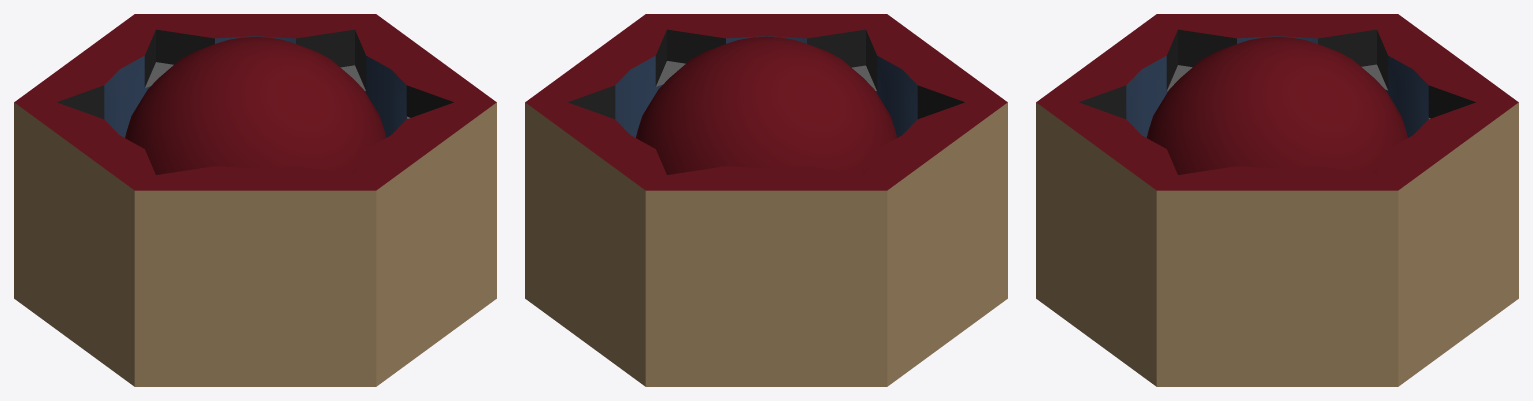
The model's file is starturret.dae.
3 renders of one model, left to right at view 1: azimuth 30°, elevation 25°; view 2: azimuth 150°, elevation 25°; view 3: azimuth 270°, elevation 25°, orthographic.
Parts seen in each view (by area): view 1: SketchUp (×8); view 2: SketchUp (×8); view 3: SketchUp (×8).
Part boxes in pixels (bbox=[...]): SketchUp (×8): bbox=[14, 14, 496, 386]; SketchUp (×8): bbox=[525, 14, 1007, 386]; SketchUp (×8): bbox=[1036, 14, 1518, 386].
Bounding box in the file's own units: 1063 × 1228 × 696.
